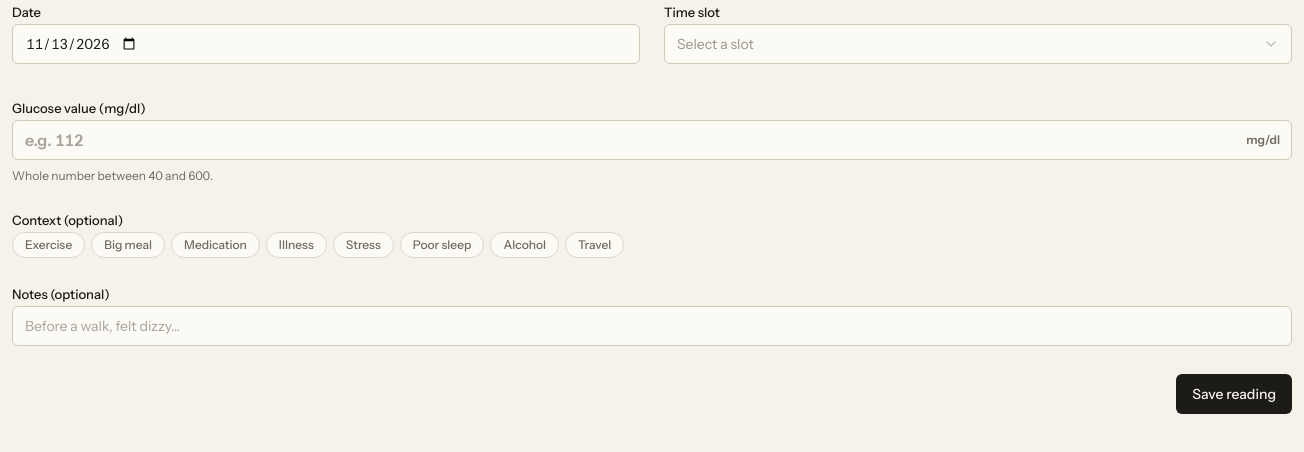
Test: ReadingForm › shows server-side errors next to the right field
The width and height of the screenshot is (1304, 452).
Click the dropdown named "time slot".
click(715, 44)  # box [664, 24, 1292, 64]
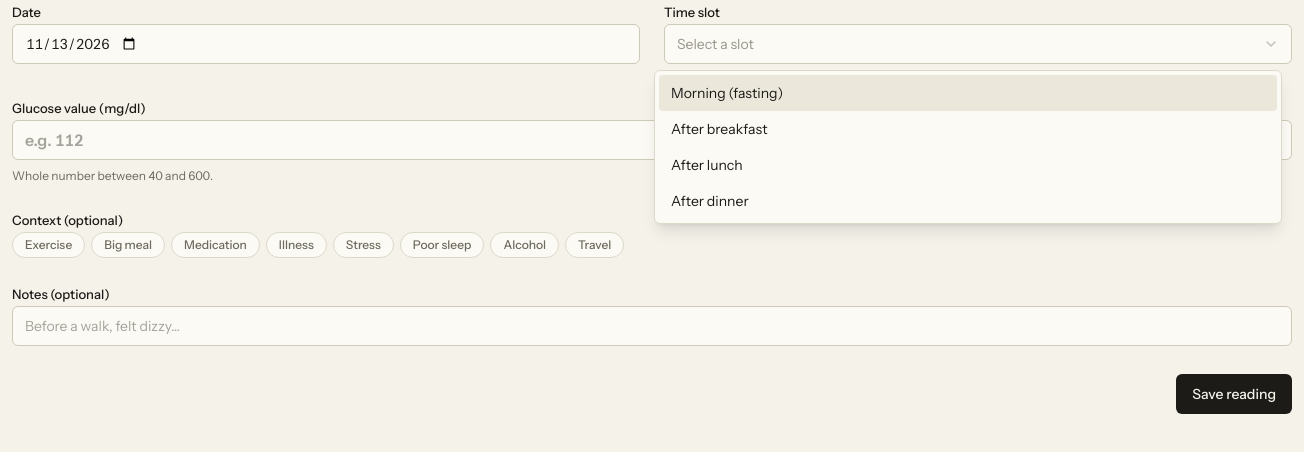
Click the option "Morning (fasting)".
click(727, 93)  # box [659, 75, 1277, 111]
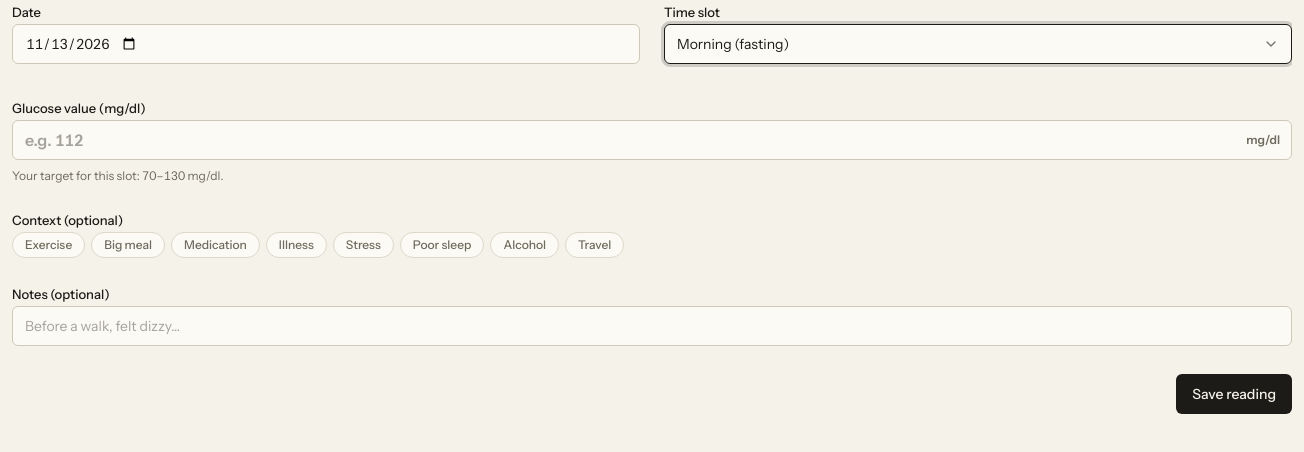
Type "100" into the field labelled "Glucose value (mg/dl)".
click(652, 140); type("100")  # box [12, 120, 1292, 160]
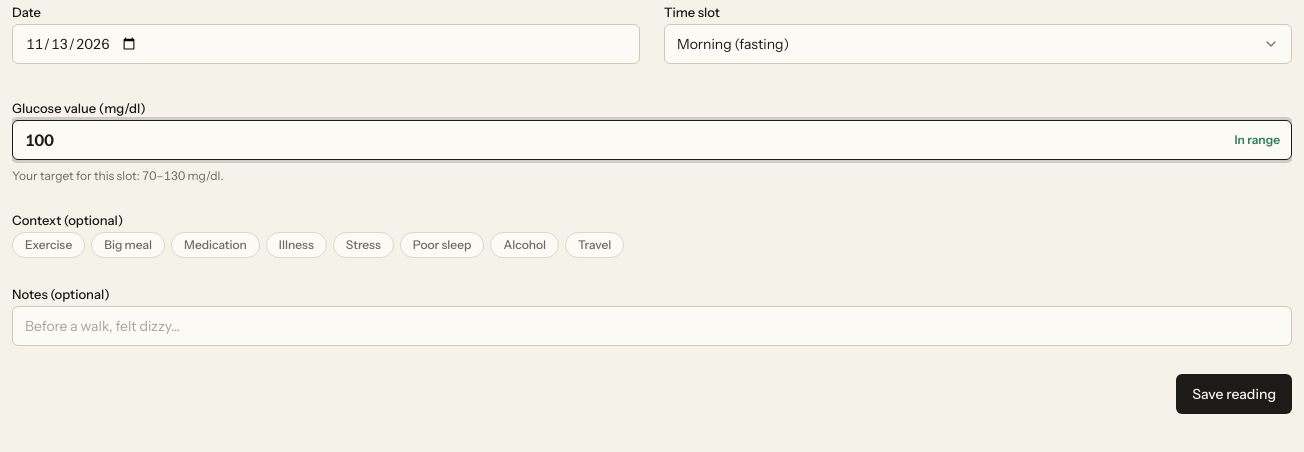
Click the button "Save reading".
click(1234, 394)  # box [1176, 374, 1292, 414]
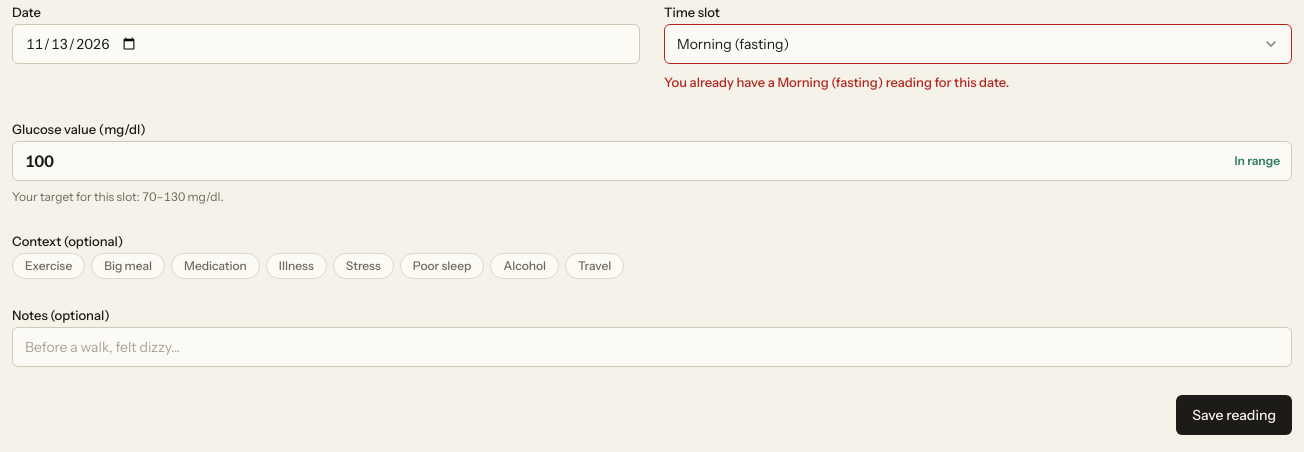
Check: the text "You already have a Morning (fasting) reading for this date." is shown, box [664, 74, 1009, 90]
